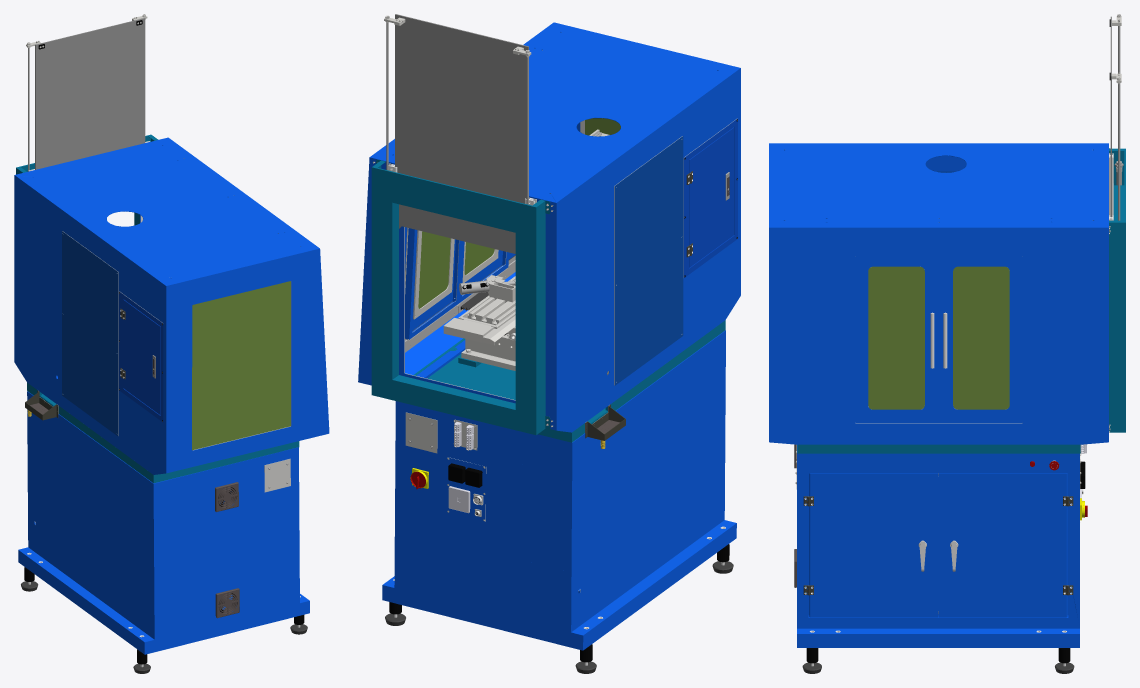
The model's file is reconstructedPM8000.fbx.
The picture shows the model from 3 angles, left to right: view 1: azimuth 30°, elevation 25°; view 2: azimuth 150°, elevation 25°; view 3: azimuth 270°, elevation 25°; orthographic projection. The views are drawn at different scales.
Parts seen in each view (by area): view 1: IKX323010101, IKX3230201, IKX323011805, IKX3100302, KX3S230104, IKX323010203, IKX323010202, IKX31103, IKX323010129, KC6230127, \X2\592798CE62477F69\X0\, \X2\592798CE62477F69\X0\001 (+1 smaller); view 2: IKX3230201, IKX323010101, IKX3100302, IKX3100309, KX3S230104, IKX323010203, IKX31103, IKX3230104, IKX323011804, IKX323010129, IKX323010202, KX31131 (+8 smaller); view 3: IKX323010101, IKX3230203, IKX3230202, IKX3230201, IKX3230103, IKX323011804, IKX3230104, IKX3230105, IKX3100309, IKX31103.
Boxes of the visible parts, x1=… form: IKX323010101: x1=14, y1=137, x2=329, y2=474; IKX3230201: x1=18, y1=391, x2=309, y2=654; IKX323011805: x1=192, y1=281, x2=290, y2=450; IKX3100302: x1=35, y1=18, x2=145, y2=169; KX3S230104: x1=62, y1=231, x2=118, y2=436; IKX323010203: x1=123, y1=299, x2=160, y2=415; IKX323010202: x1=118, y1=291, x2=163, y2=422; IKX31103: x1=40, y1=392, x2=299, y2=482; IKX323010129: x1=27, y1=382, x2=297, y2=483; KC6230127: x1=264, y1=458, x2=290, y2=492; \X2\592798CE62477F69\X0\: x1=215, y1=588, x2=239, y2=618; \X2\592798CE62477F69\X0\001: x1=215, y1=482, x2=238, y2=511; IKX3230201: x1=382, y1=330, x2=736, y2=650; IKX323010101: x1=358, y1=22, x2=740, y2=432; IKX3100302: x1=395, y1=14, x2=528, y2=253; IKX3100309: x1=371, y1=159, x2=550, y2=435; KX3S230104: x1=614, y1=136, x2=683, y2=385; IKX323010203: x1=689, y1=127, x2=734, y2=267; IKX31103: x1=413, y1=338, x2=607, y2=423; IKX3230104: x1=405, y1=228, x2=461, y2=339; IKX323011804: x1=418, y1=231, x2=450, y2=308; IKX323010129: x1=415, y1=320, x2=725, y2=442; IKX323010202: x1=683, y1=118, x2=737, y2=277; KX31131: x1=461, y1=333, x2=515, y2=370; IKX323010101: x1=769, y1=143, x2=1108, y2=444; IKX3230203: x1=938, y1=473, x2=1067, y2=617; IKX3230202: x1=809, y1=473, x2=938, y2=617; IKX3230201: x1=797, y1=445, x2=1079, y2=647; IKX3230103: x1=868, y1=266, x2=924, y2=409; IKX323011804: x1=953, y1=266, x2=1009, y2=409; IKX3230104: x1=939, y1=256, x2=1022, y2=422; IKX3230105: x1=855, y1=256, x2=938, y2=422; IKX3100309: x1=1109, y1=148, x2=1125, y2=432; IKX31103: x1=797, y1=444, x2=1080, y2=453.
Bounding box in the file's own units: 89.76 × 251 × 139.
